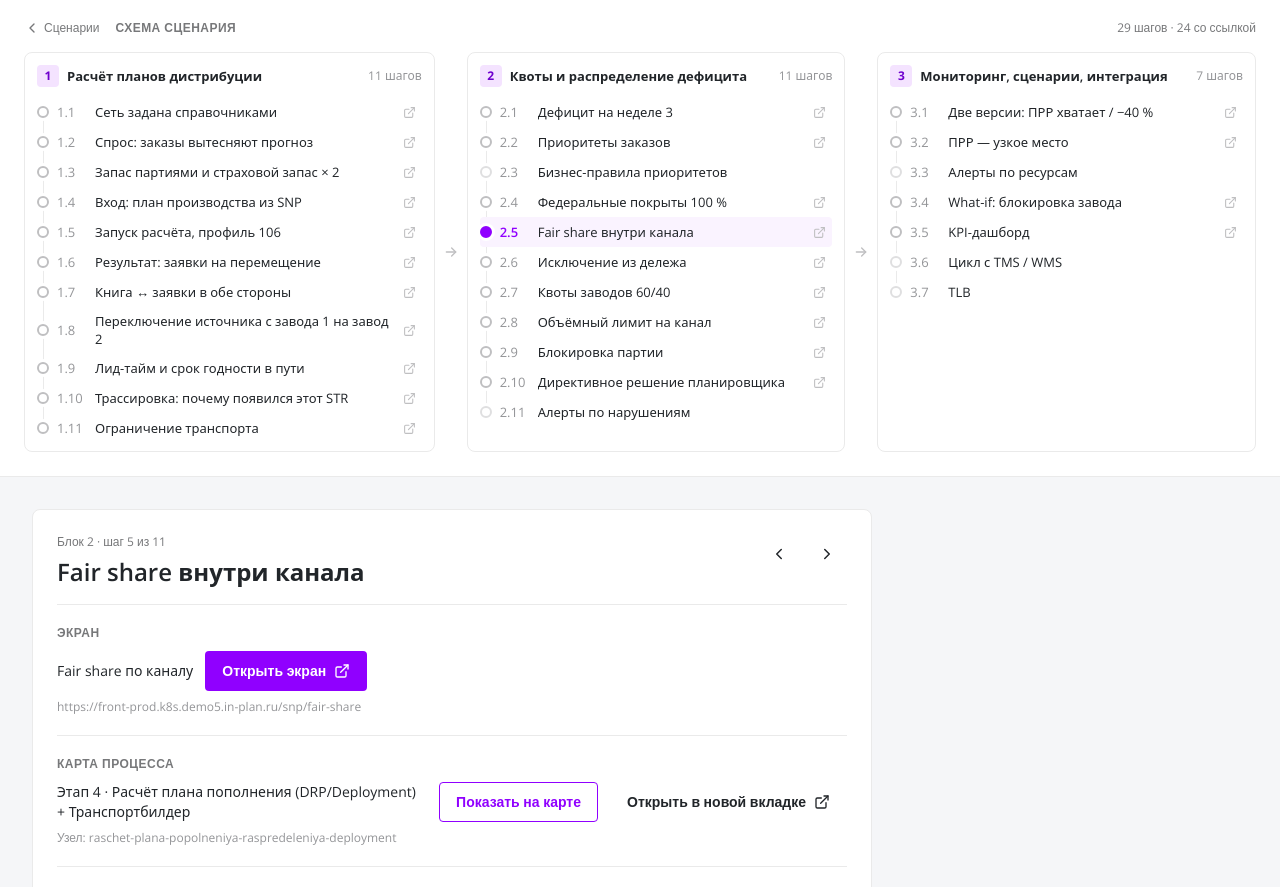
Test: ТК 14 — SPEC §8:410 › › , ArrowRight и клик по схеме меняют step через replaceState; pushState не вызывается, history.length не растёт (§4.7:323-324)
Expected: the heading "Fair share внутри канала" is shown, [57,555,365,588]
Click the button named "Следующий шаг".
click(827, 554)  # box [807,534,847,574]
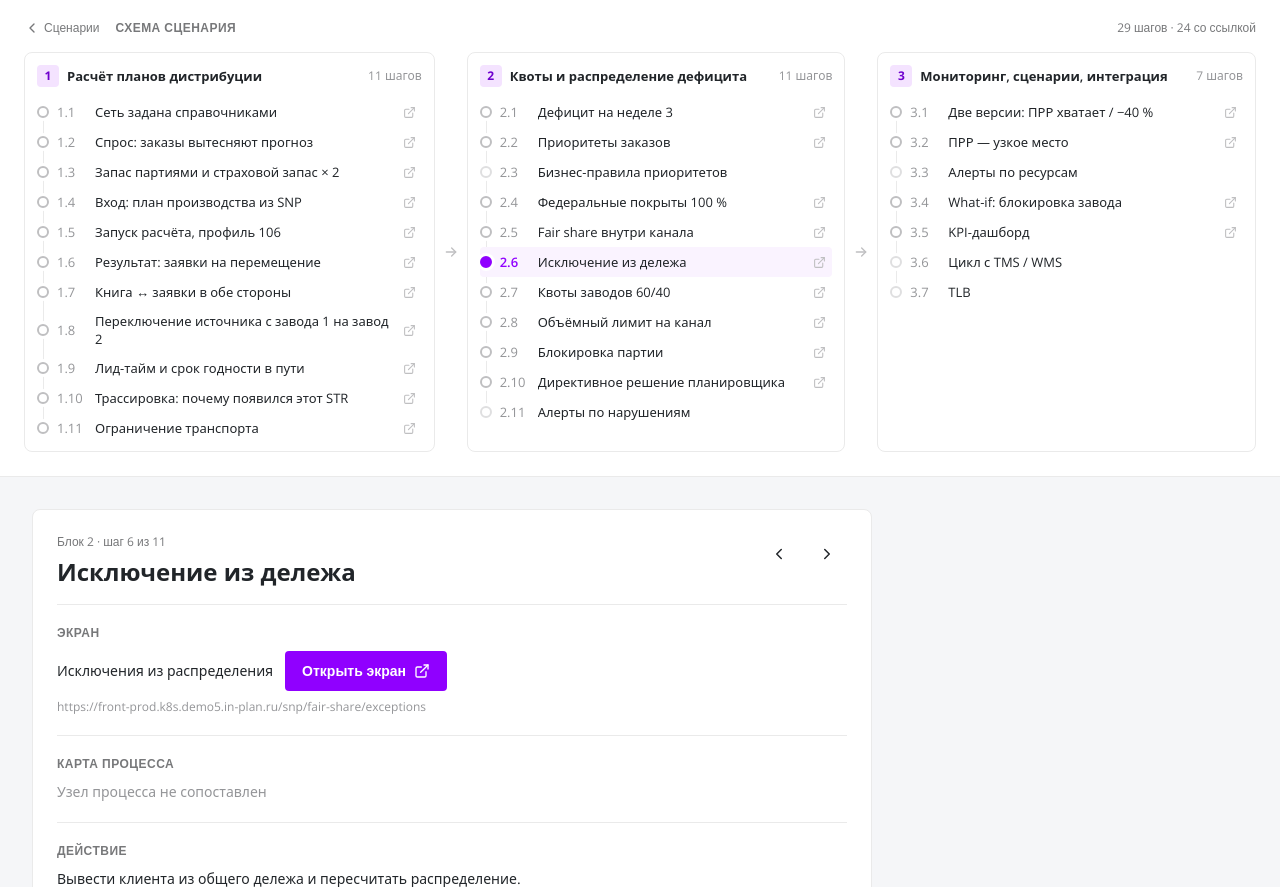
Expected: the heading "Исключение из дележа" is shown, [57,555,356,588]
Press ArrowRight
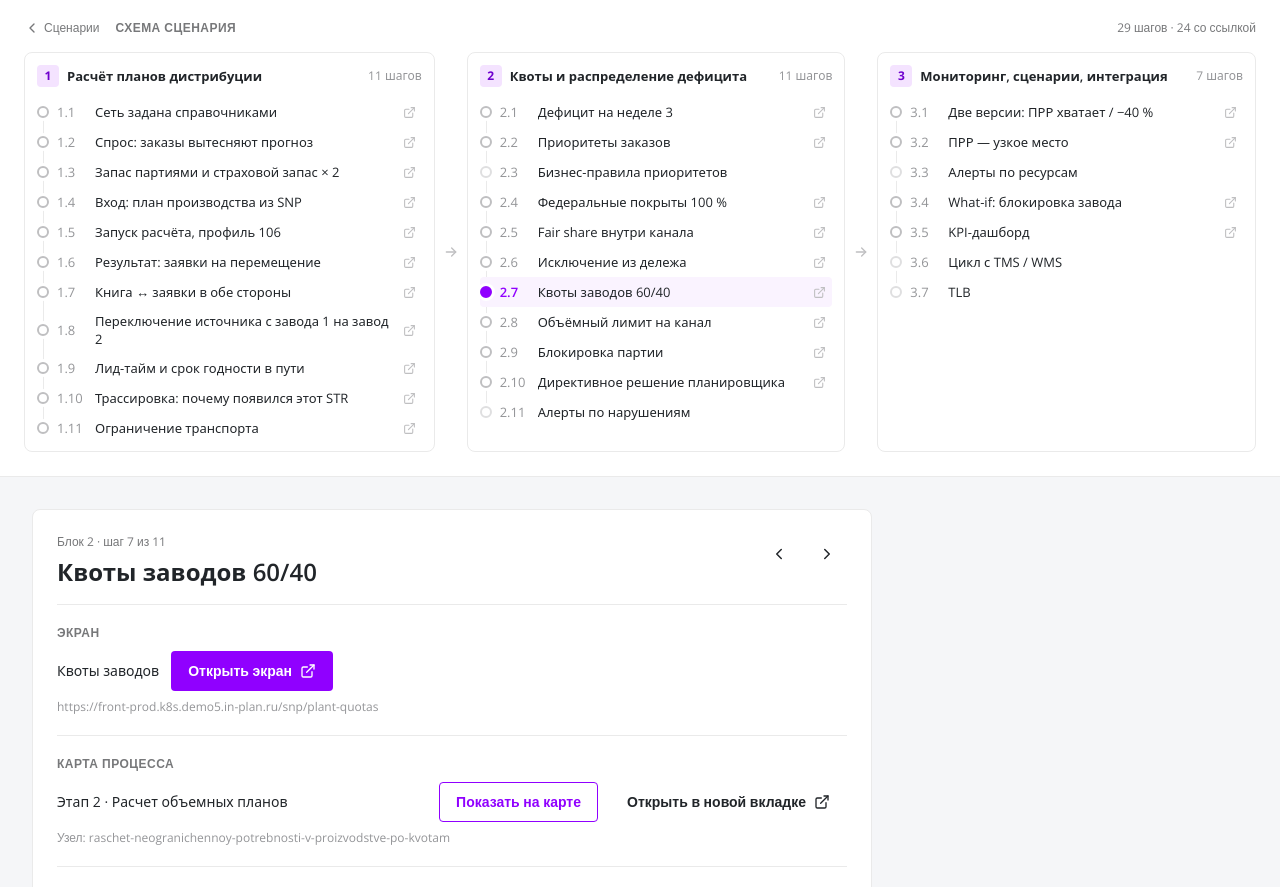
Expected: the heading "Квоты заводов 60/40" is shown, [57,555,317,588]
Click the button "3.1 Две версии: ПРР хватает / −40 %".
click(1067, 112)  # box [890,97,1243,127]
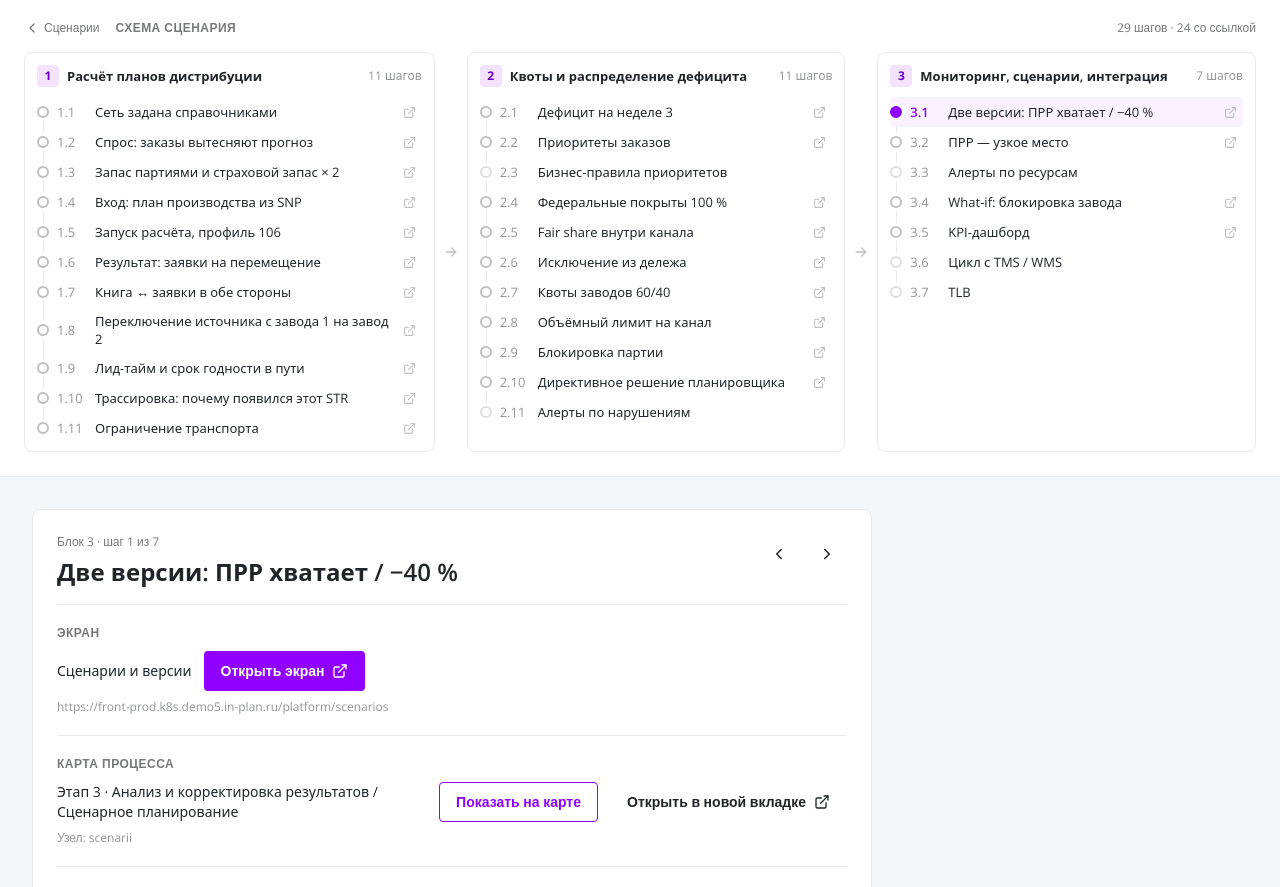
Expected: the heading "Две версии: ПРР хватает / −40 %" is shown, [57,555,458,588]
